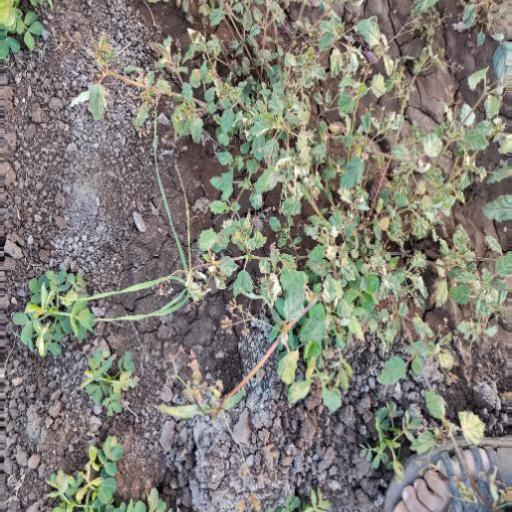weed: (153, 21, 512, 386)
